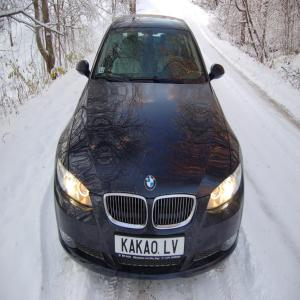Vehicle-registration-plate: (113, 237, 194, 269)
